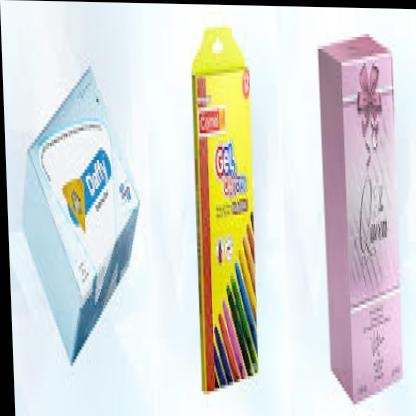trash: (24, 68, 138, 361), (319, 35, 401, 400), (192, 27, 257, 390)
